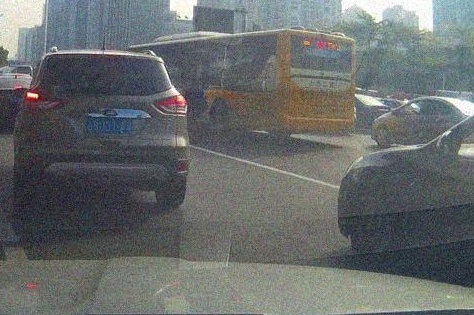L_light: (22, 89, 63, 111)
R_light: (152, 95, 187, 115)
T_light: (91, 54, 113, 59)
day-left: (14, 51, 188, 205)
